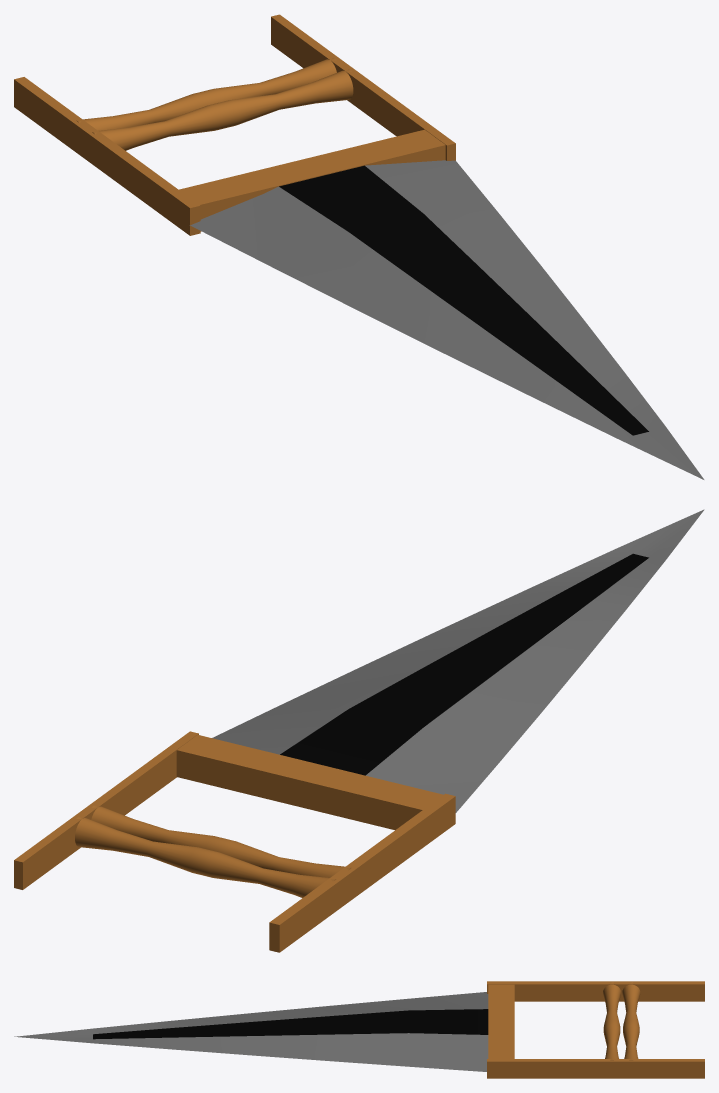
The model's file is Katar.FBX.
3 renders of one model, top to bottom at view 1: azimuth 30°, elevation 25°; view 2: azimuth 150°, elevation 25°; view 3: azimuth 270°, elevation 25°, orthographic. The views are drawn at different scales.
Visible parts, largest first — view 1: Box005; view 2: Box005; view 3: Box005.
Part boxes in pixels (x1,y1,x2,y2): Box005: [14, 14, 704, 479]; Box005: [14, 509, 704, 952]; Box005: [14, 981, 704, 1078].
Size of the model in its own units: 7.33 by 0.8447 by 26.62.
